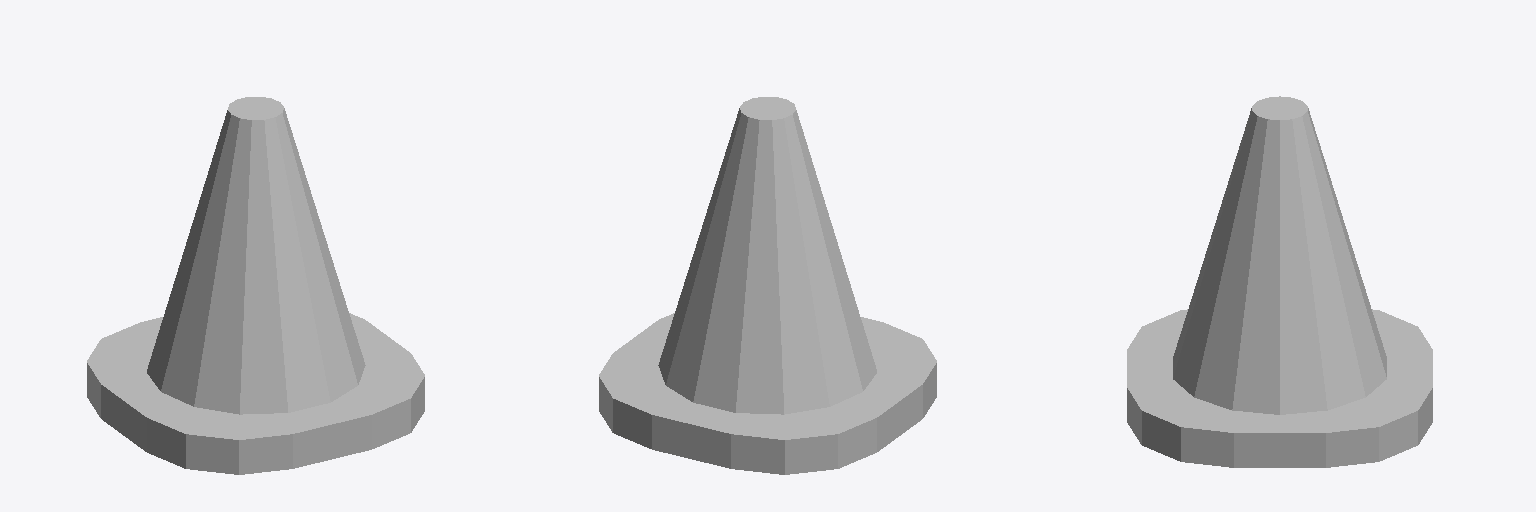
The model's file is 19_CityB_Traffic_Cone_v1.obj.
3 views of the same model, side by side, from view 1: azimuth 30°, elevation 25°; view 2: azimuth 150°, elevation 25°; view 3: azimuth 270°, elevation 25° (orthographic).
Visible parts, largest first — view 1: Cone; view 2: Cone; view 3: Cone.
Boxes of the visible parts, box(x1,y1,x2,y2) form: Cone: box(87, 97, 424, 474); Cone: box(599, 97, 936, 474); Cone: box(1127, 96, 1432, 467).
Size of the model in its own units: 1 by 1.07 by 1.